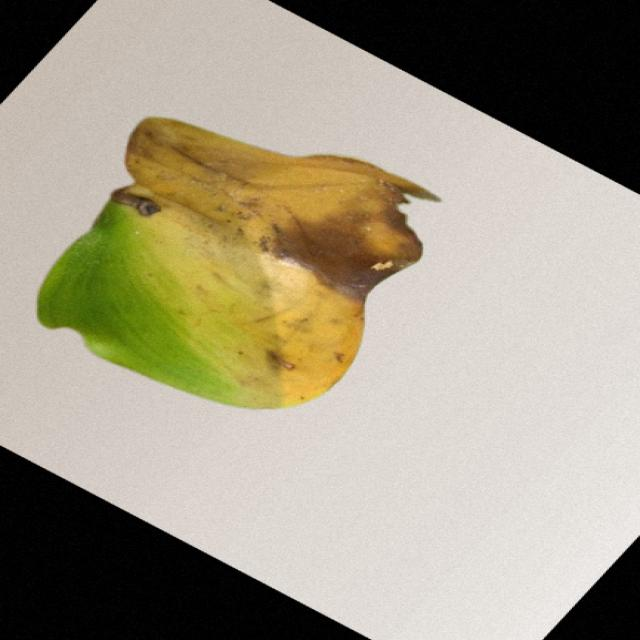daun berpenyakit kuning: (38, 118, 438, 408)
